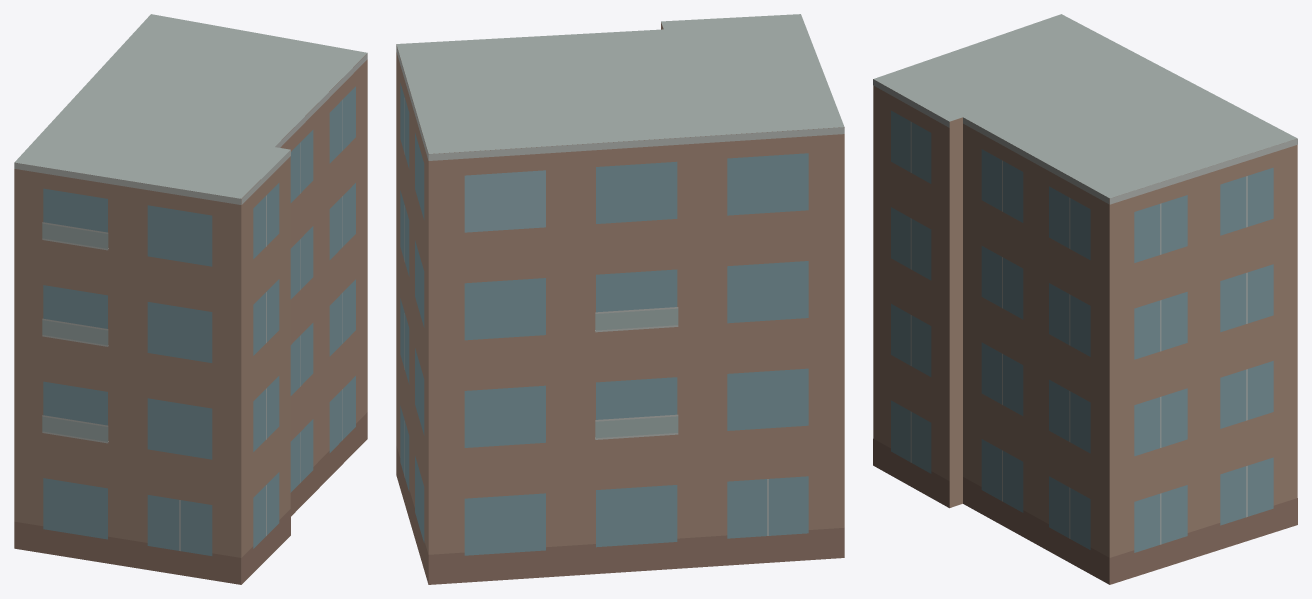
File: survey-upis-33013527.glb
3 renders of one model, left to right at view 1: azimuth 30°, elevation 25°; view 2: azimuth 150°, elevation 25°; view 3: azimuth 270°, elevation 25°, orthographic. The views are drawn at different scales.
Visible parts, largest first — view 1: survey-upis-33013527.tmp; view 2: survey-upis-33013527.tmp; view 3: survey-upis-33013527.tmp.
Boxes of the visible parts, <box> form: survey-upis-33013527.tmp: <box>14,14,367,584</box>; survey-upis-33013527.tmp: <box>396,14,844,584</box>; survey-upis-33013527.tmp: <box>873,14,1297,584</box>.
Size of the model in its own units: 15.41 by 15.05 by 14.99.
